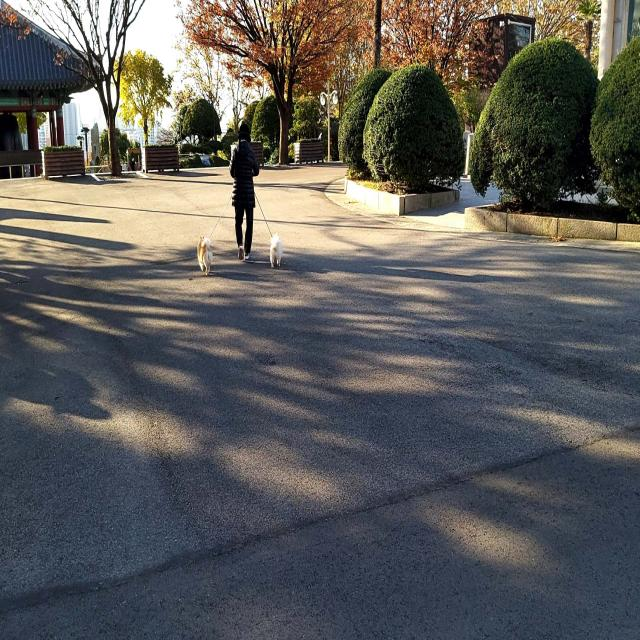Leashed_Dog: (196, 178, 239, 278), (240, 174, 283, 268)
